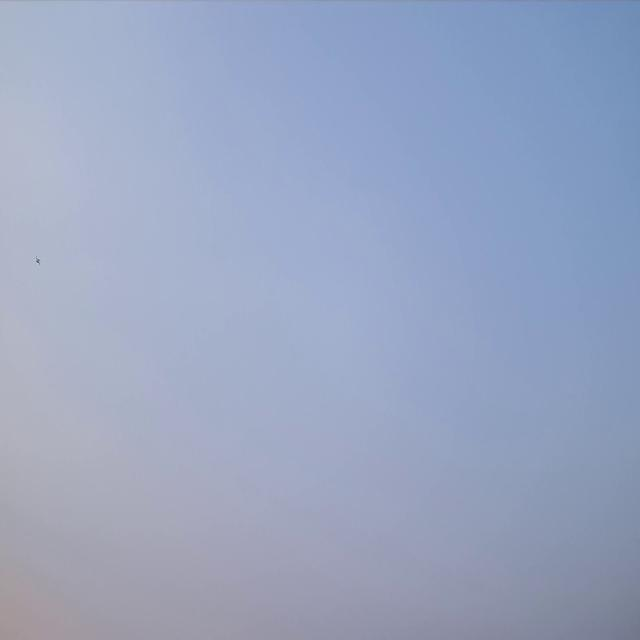UAV: (36, 254, 40, 266)
